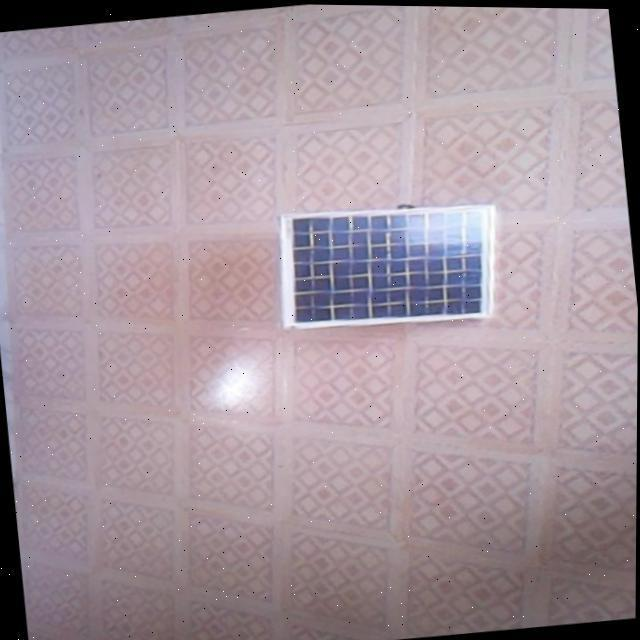Normal Solar Panel: (271, 190, 505, 337)
